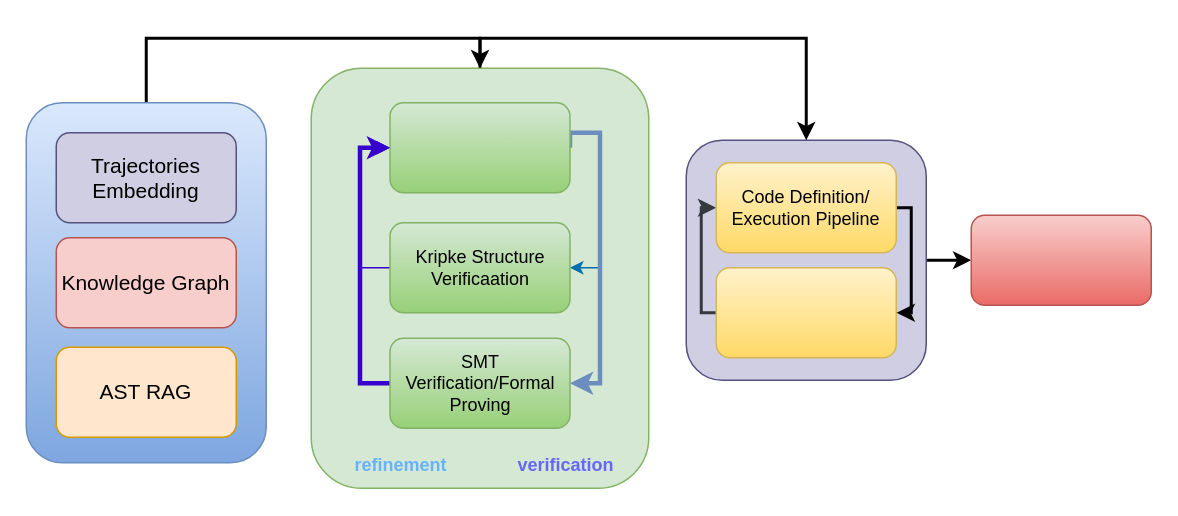
This 1178x516 diagram has some shape labels left out. Here are the shapes that lost their labels. From the top down, the centre of each, then its label:
(479,147): Plan proposal
(1060,259): Evaluation
(805,312): AST verification Dry Run
